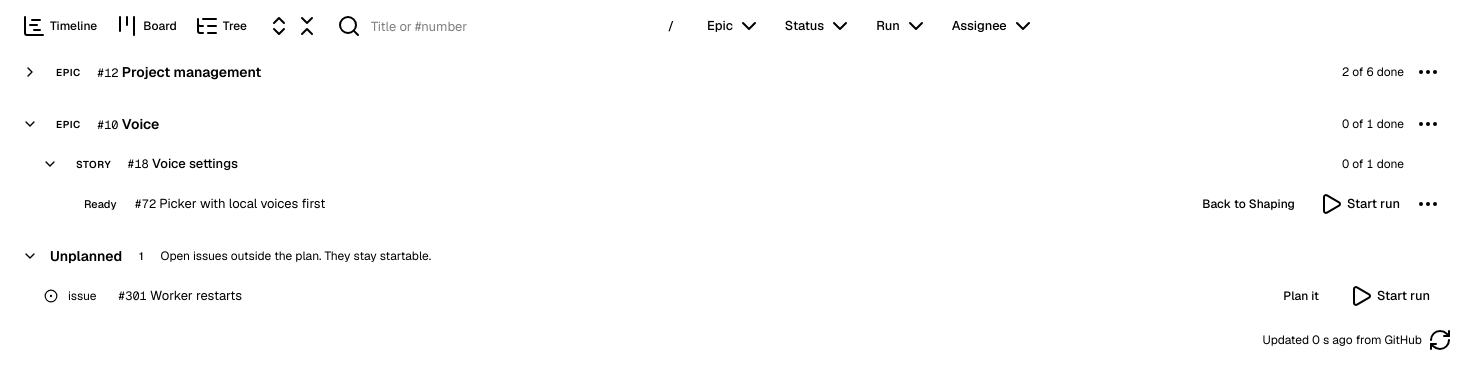
Test: searching #58 keeps the task with its story and epic open, marks the match, counts it and writes ?q= after a pause
Type "#58" into the search field named "Search the plan" at [509, 26], box [361,12,657,40]
Wait 150 ms
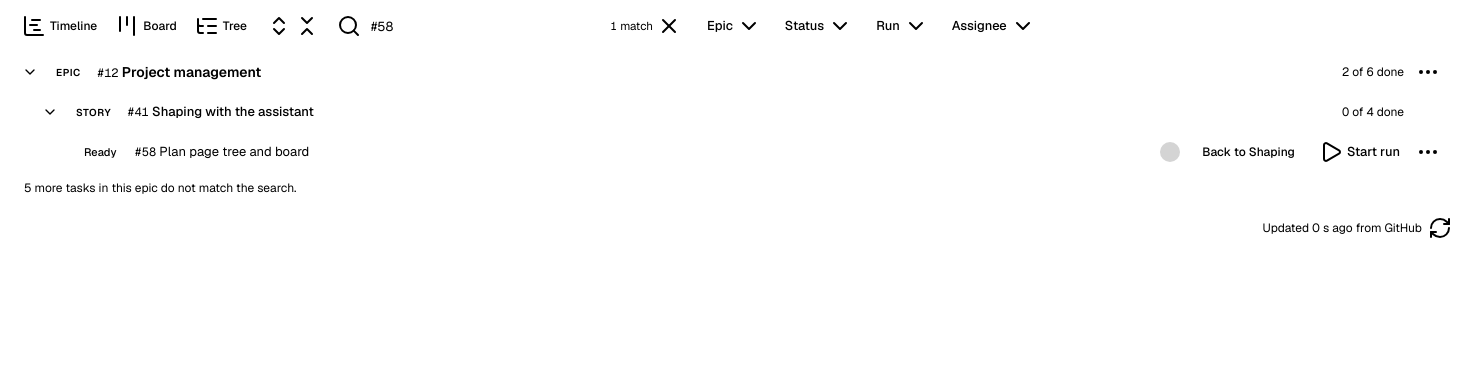
Result: the list item "Epic #12" is expanded at [12,52,1452,204]
Result: the text "#58" is shown at [134,144,157,160]
Result: the list item "Epic #10" is gone
Click the button named "Clear search" at [669, 26], box [657,14,681,38]
Wait 150 ms
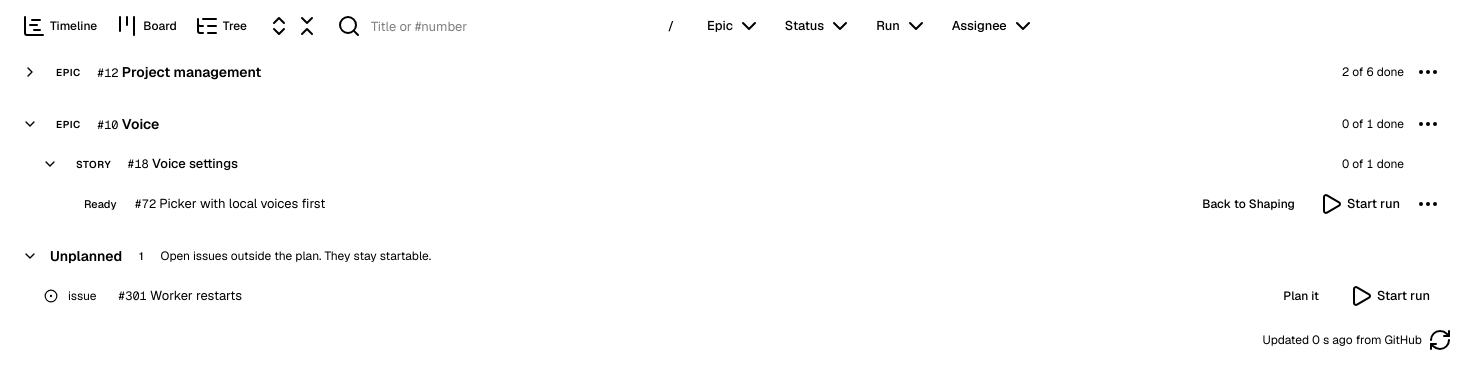
Result: the search field named "Search the plan" is empty at [361,12,657,40]
Result: the list item "Epic #12 Project management 2 of 6 done" is collapsed at [12,52,1452,92]
